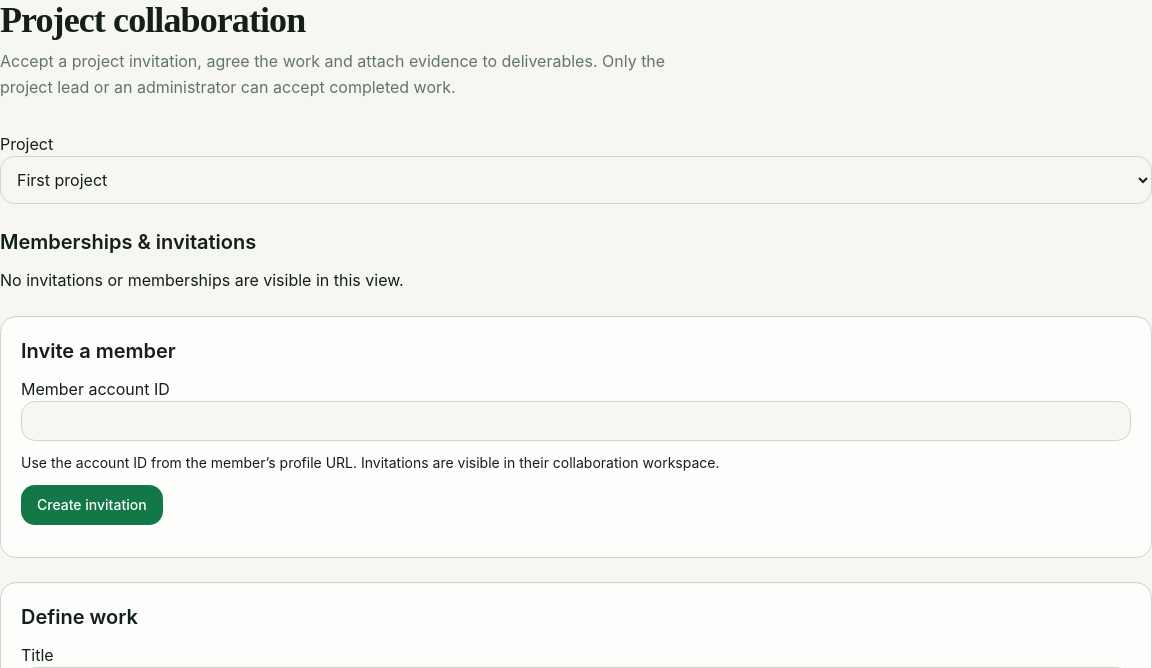
Scenario: collaboration invitation feedback › retains the draft and reports an unconfirmed invitation in its own form
This screenshot has width=1152, height=668.
Type "10000000-0000-4000-8000-000000000092" into the field labelled "Member account ID" at (576, 421), box [21,401,1131,441]
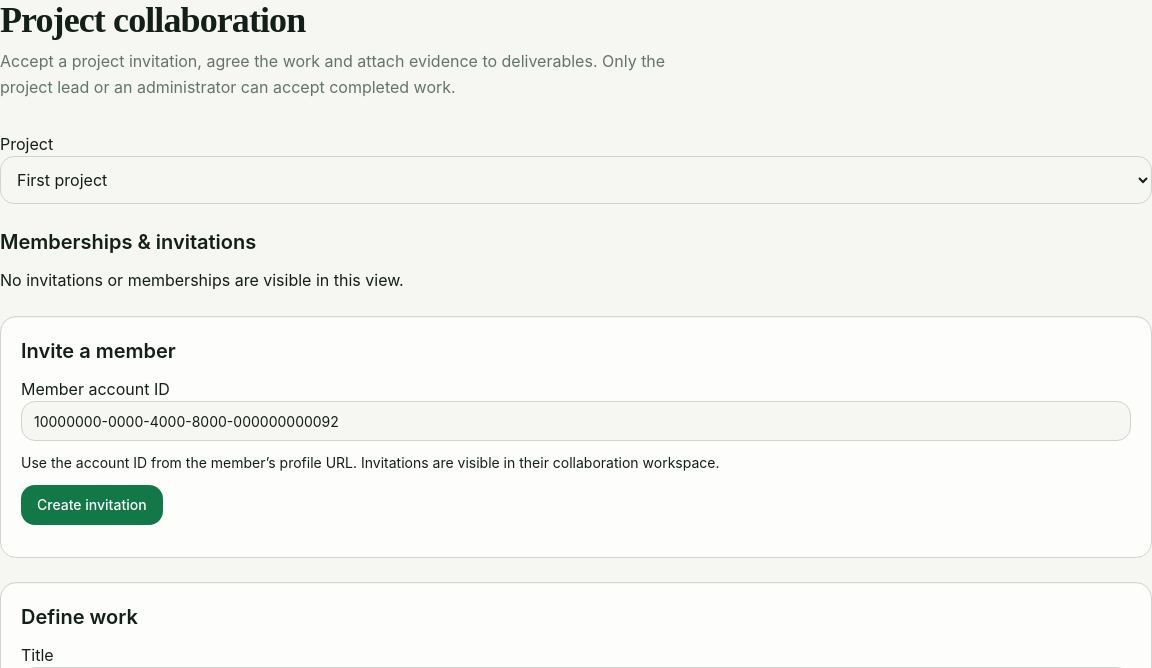
Click the button "Create invitation" at (92, 505), box [21,485,163,525]
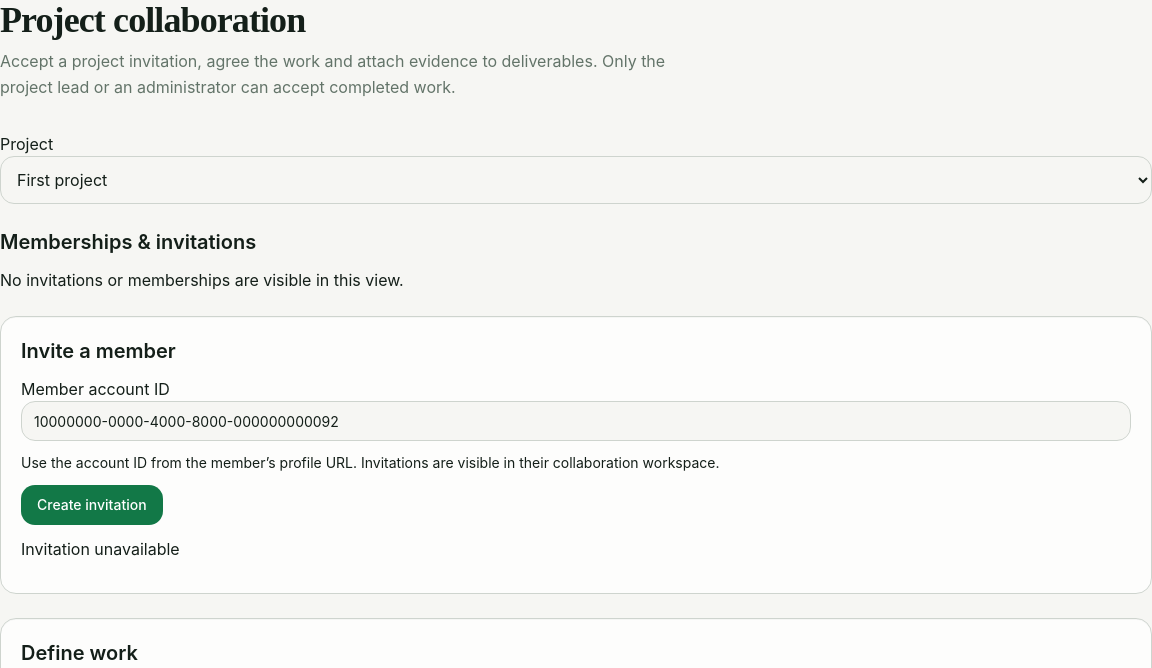
Result: the text "Invitation unavailable" is shown at [21,539,180,559]
